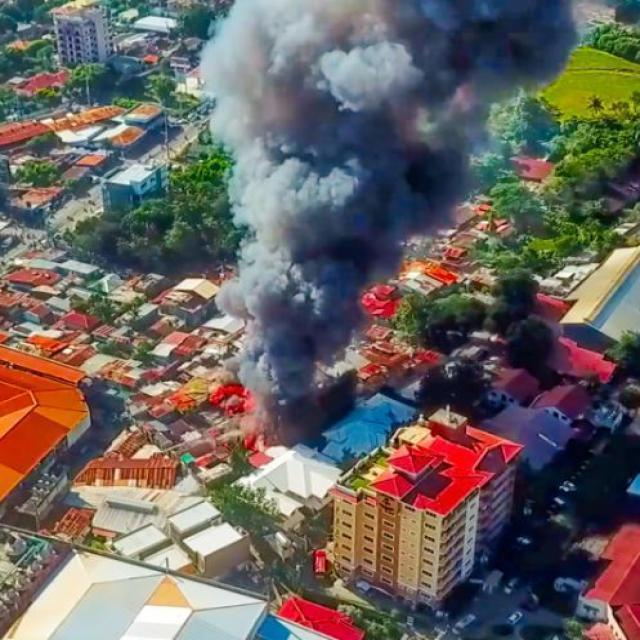Smoke: (187, 0, 580, 226), (214, 170, 360, 399)
